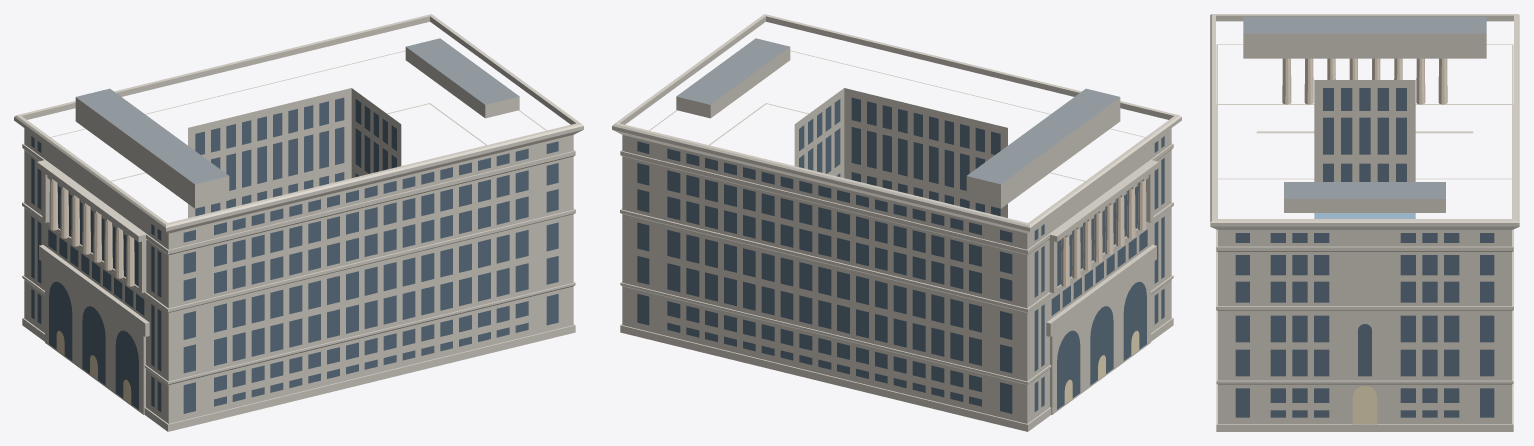
Rendered from pit-city-county-building.glb.
The picture shows the model from 3 angles, left to right: view 1: azimuth 30°, elevation 25°; view 2: azimuth 150°, elevation 25°; view 3: azimuth 270°, elevation 25°; orthographic projection.
Visible parts, largest first — view 1: City-County Building; view 2: City-County Building; view 3: City-County Building.
Part boxes in pixels (<box>): City-County Building: <box>14,14,583,431</box>; City-County Building: <box>612,14,1181,431</box>; City-County Building: <box>1210,14,1519,431</box>.
Size of the model in its own units: 97.5 by 50.6 by 61.
